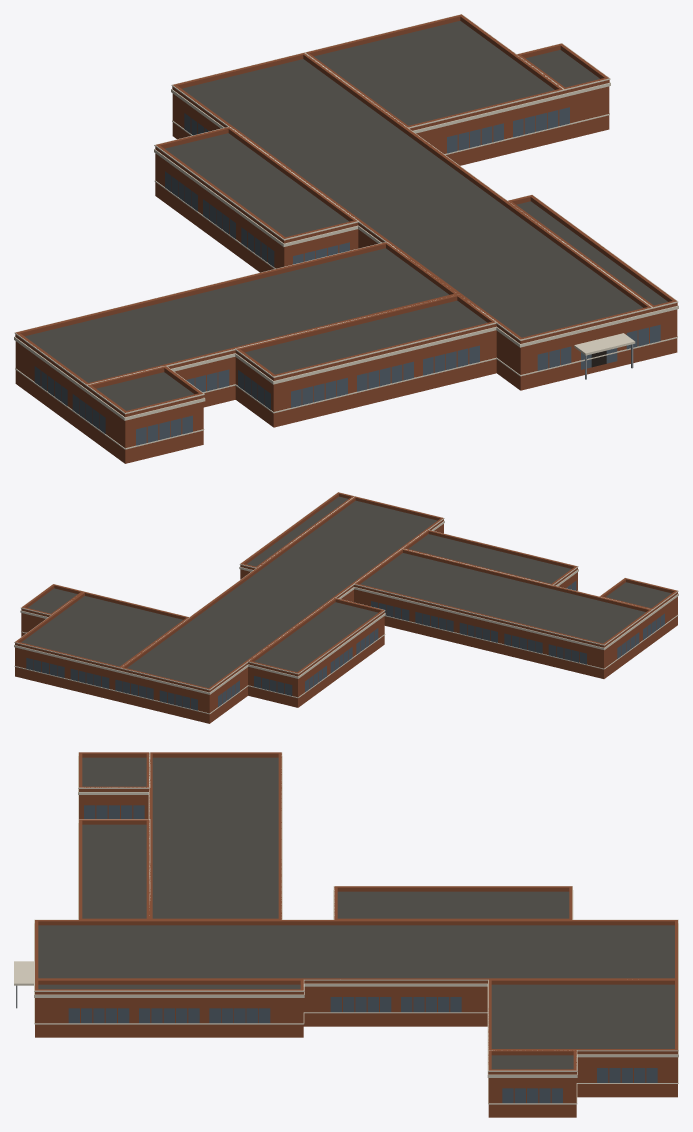
File: lawson-elementary.glb
3 renders of one model, top to bottom at view 1: azimuth 30°, elevation 25°; view 2: azimuth 150°, elevation 25°; view 3: azimuth 270°, elevation 25°, orthographic. The views are drawn at different scales.
Visible parts, largest first — view 1: lawson_elementary; view 2: lawson_elementary; view 3: lawson_elementary.
Part boxes in pixels (left/top/right/bottom): lawson_elementary: left=14, top=14, right=678, bottom=463; lawson_elementary: left=14, top=492, right=678, bottom=723; lawson_elementary: left=14, top=752, right=678, bottom=1117.
Size of the model in its own units: 85.74 by 5.91 by 75.52.
